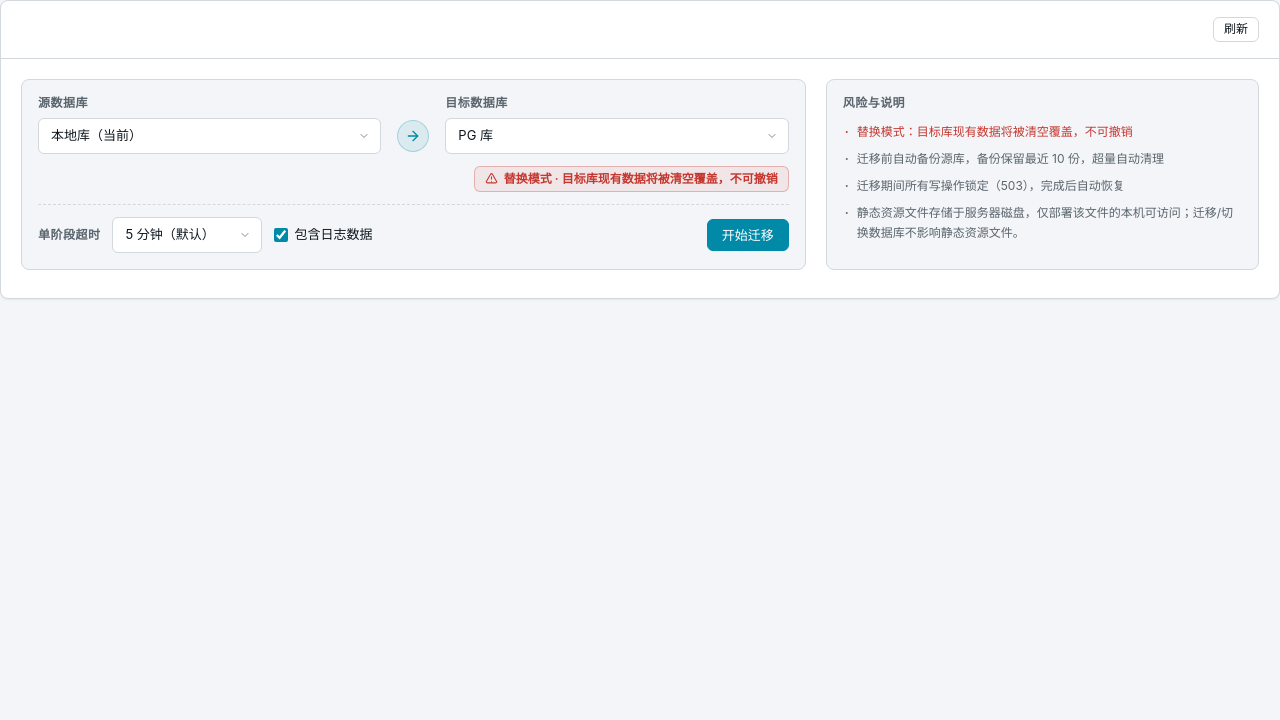
Test: DbMigrationCard › 确认弹窗包含源/目标标识与地址、清空警告、备份 10 份、写锁与超时摘要（3.1）
Click the button with class "migrate-btn" at (748, 235), box x1=707 y1=219 x2=789 y2=251
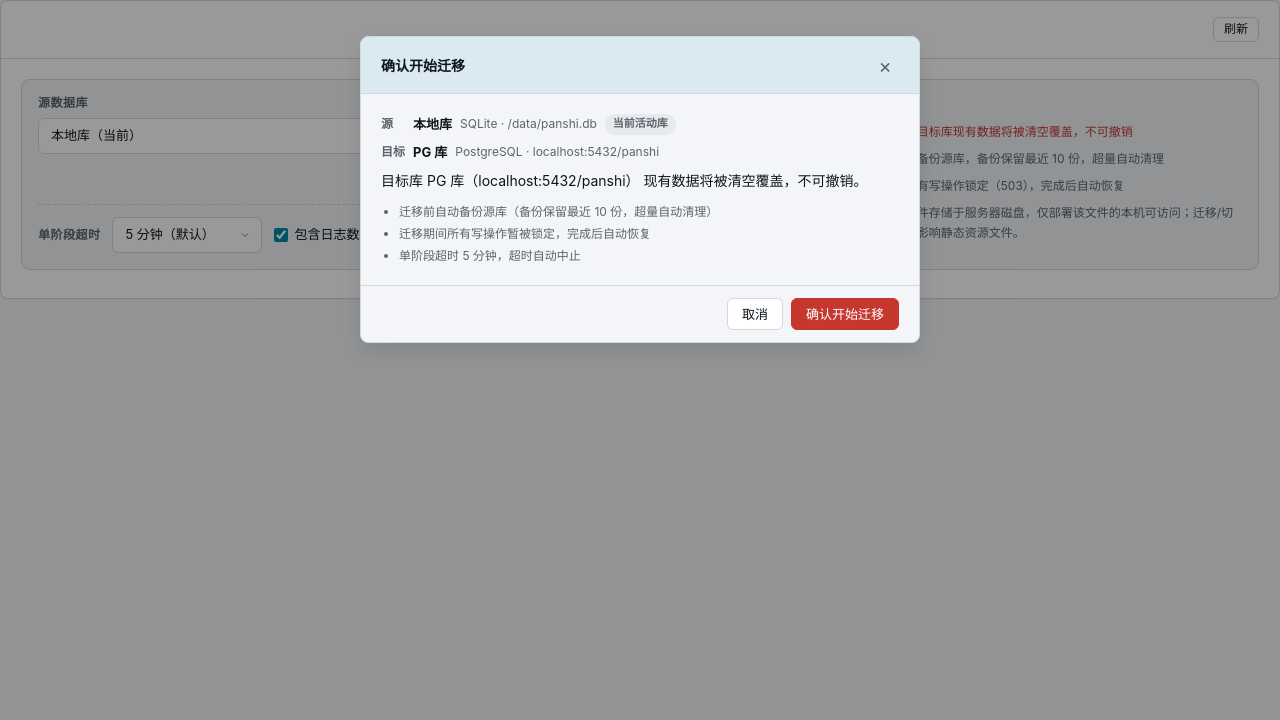
Expected: the element with class "migrate-confirm-modal" shows "本地库", x1=413 y1=116 x2=452 y2=132
Expected: the element with class "migrate-confirm-modal" shows "/data/panshi.db", x1=460 y1=116 x2=597 y2=131
Expected: the element with class "migrate-confirm-modal" shows "PG 库", x1=413 y1=144 x2=447 y2=160
